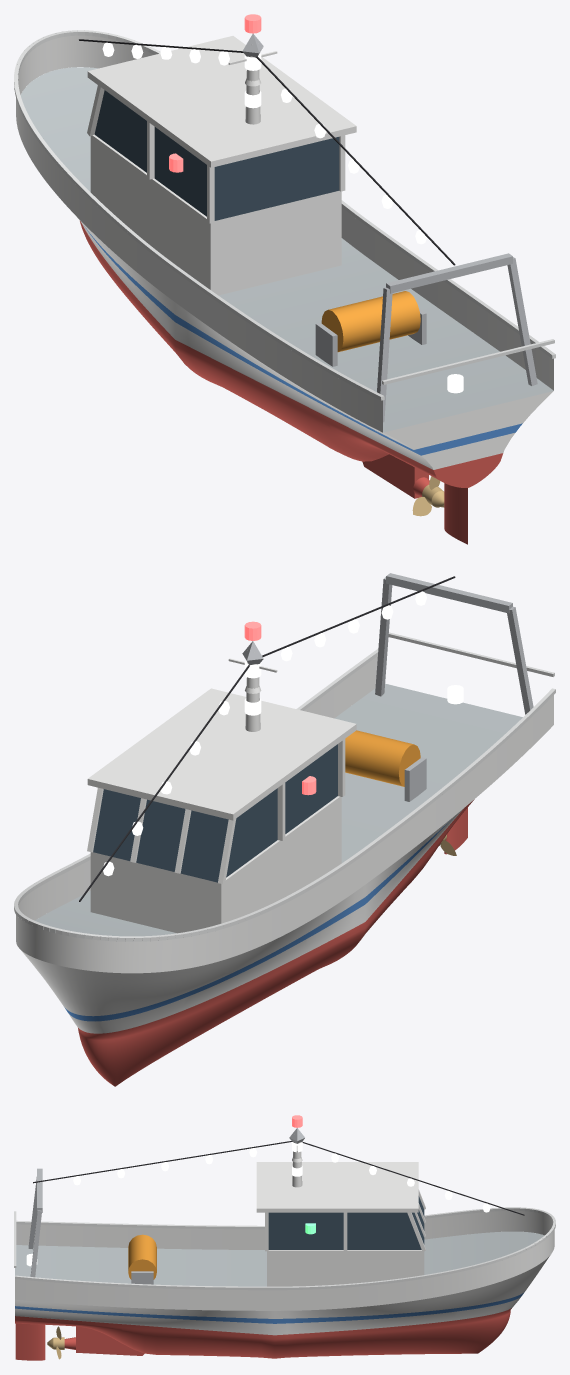
The model's file is fishing_boat.glb.
3 views of the same model, one above another, from view 1: azimuth 30°, elevation 25°; view 2: azimuth 150°, elevation 25°; view 3: azimuth 270°, elevation 25° (orthographic). The views are drawn at different scales.
Parts seen in each view (by area): view 1: superstructure, hull, deck_fittings, hull_appendages, rudder_main_rudder, propeller_main_prop; view 2: superstructure, hull, deck_fittings; view 3: hull, superstructure, deck_fittings, hull_appendages, rudder_main_rudder.
Boxes of the visible parts, x1,y1,x2,y2 form: superstructure: (79,33,537,422); hull: (20,67,553,487); deck_fittings: (14,30,555,432); hull_appendages: (362,454,429,498); rudder_main_rudder: (444,483,467,544); propeller_main_prop: (412,476,444,516); superstructure: (79,573,533,933); hull: (21,683,522,1086); deck_fittings: (14,632,555,973); hull: (15,1231,550,1358); superstructure: (28,1128,524,1286); deck_fittings: (14,1207,555,1310); hull_appendages: (64,1326,144,1355); rudder_main_rudder: (15,1323,45,1360).
Size of the model in its own units: 3.26 by 5.94 by 12.05.
